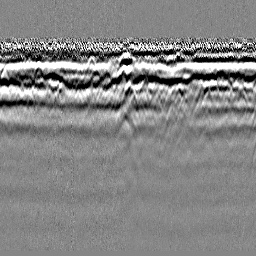cavity: (119, 79, 138, 105)
